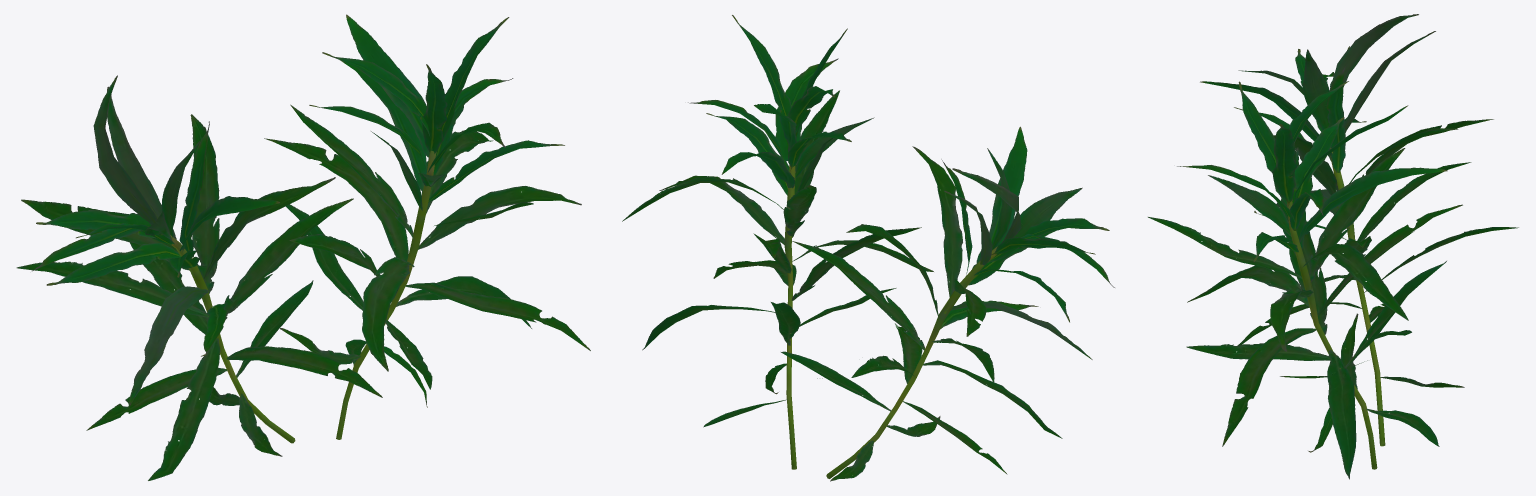
The picture shows the model from 3 angles, left to right: view 1: azimuth 30°, elevation 25°; view 2: azimuth 150°, elevation 25°; view 3: azimuth 270°, elevation 25°; orthographic projection. The views are drawn at different scales.
Visible parts, largest first — view 1: SM_US_Red_Bush_03_LOD0; view 2: SM_US_Red_Bush_03_LOD0; view 3: SM_US_Red_Bush_03_LOD0.
Boxes of the visible parts, bbox=[...] form: SM_US_Red_Bush_03_LOD0: bbox=[16, 14, 590, 480]; SM_US_Red_Bush_03_LOD0: bbox=[622, 15, 1114, 481]; SM_US_Red_Bush_03_LOD0: bbox=[1148, 14, 1518, 479].
Size of the model in its own units: 0.5042 by 0.393 by 0.3357.
Materials: 1 (1 with a texture image).
